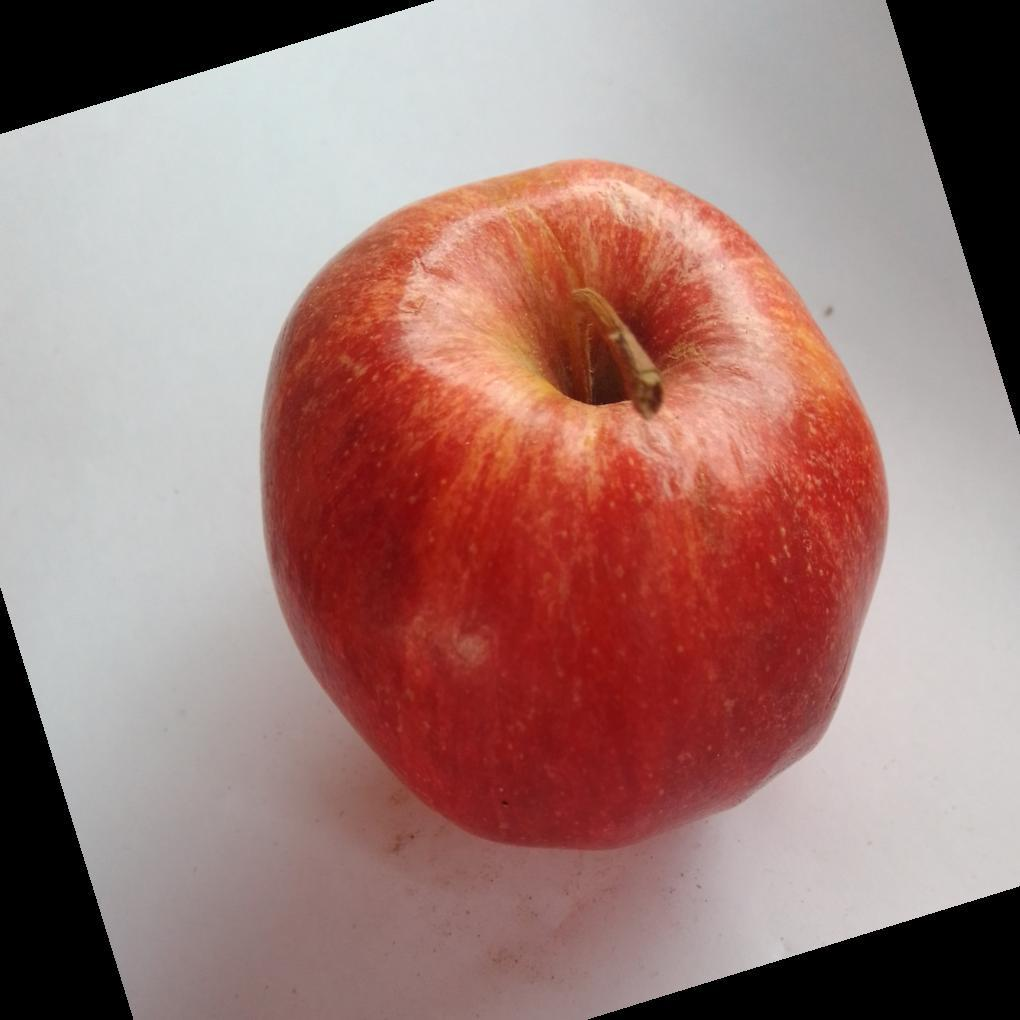FreshGuava: (258, 160, 890, 856)
